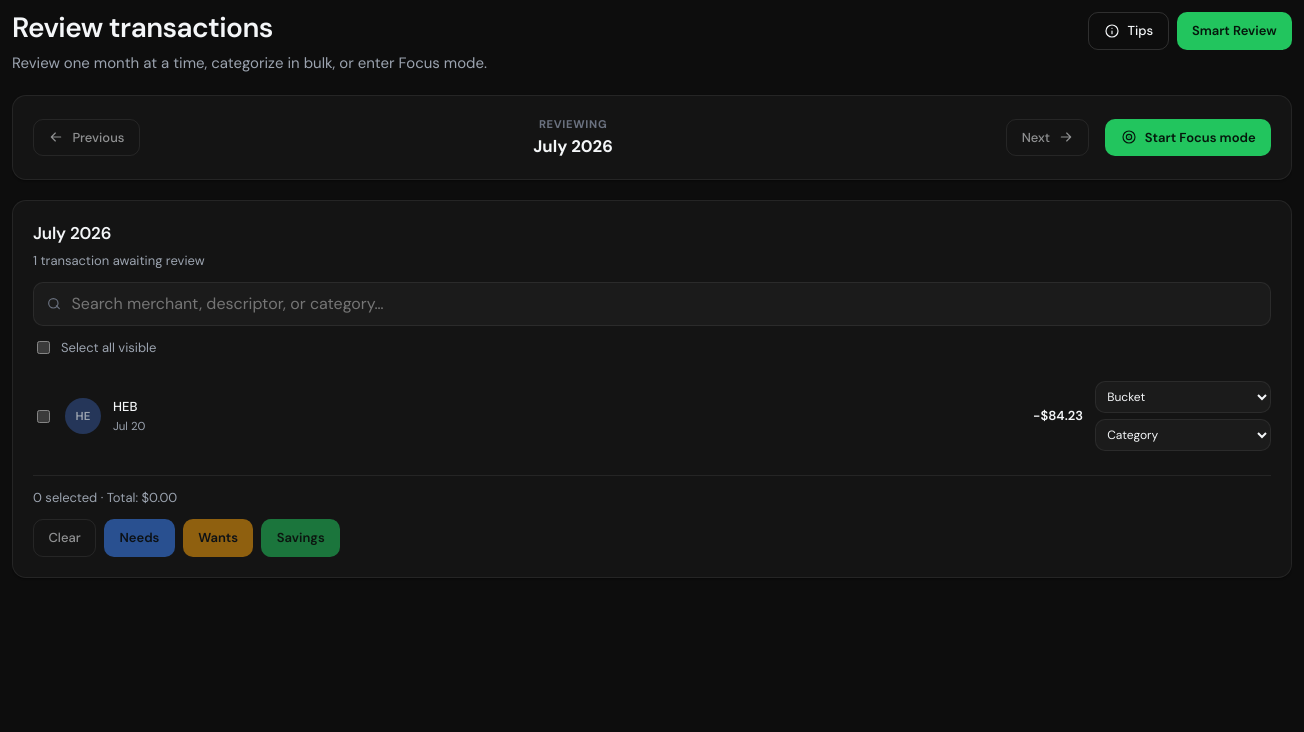
TransactionReviewView › runs smart review and reloads the queue
Click the button "Smart Review": (1234, 31) [1176, 12, 1292, 50]
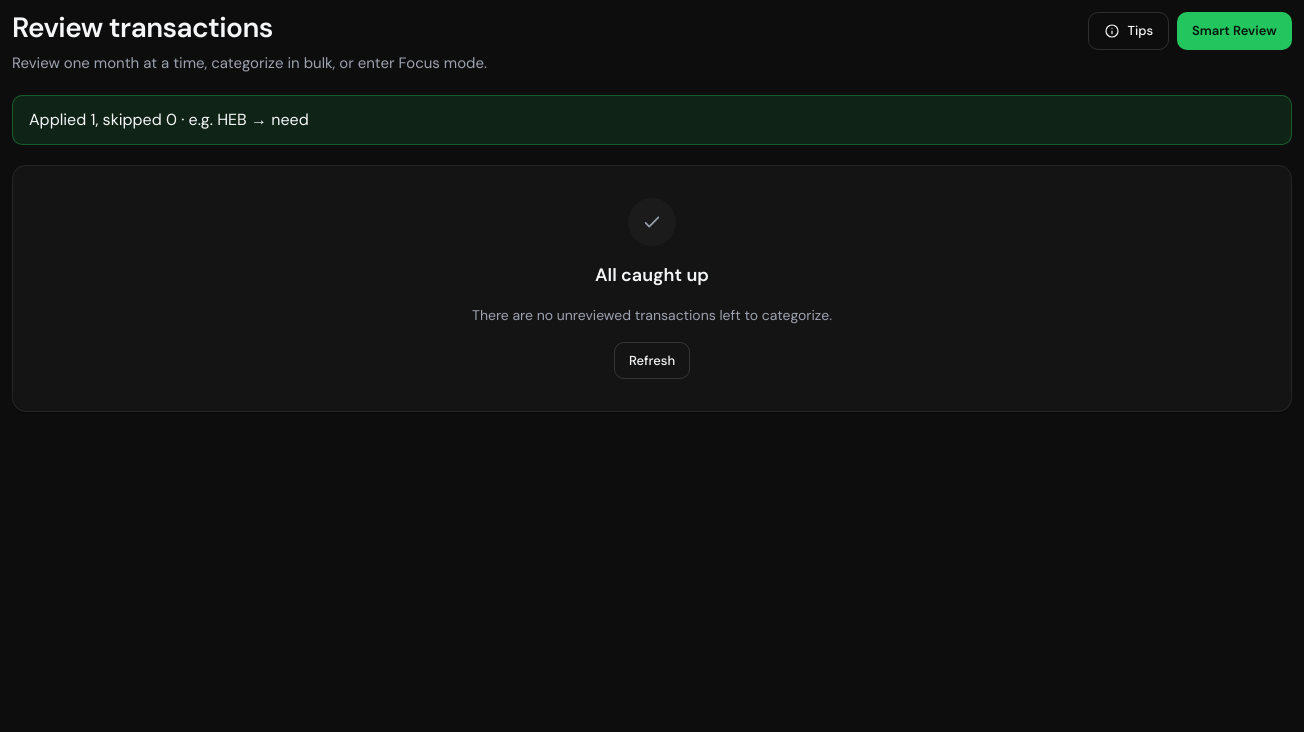
Expected: the text "Applied 1, skipped 0" is shown, [29, 109, 181, 130]
Expected: the text "All caught up" is shown, [595, 262, 709, 289]
